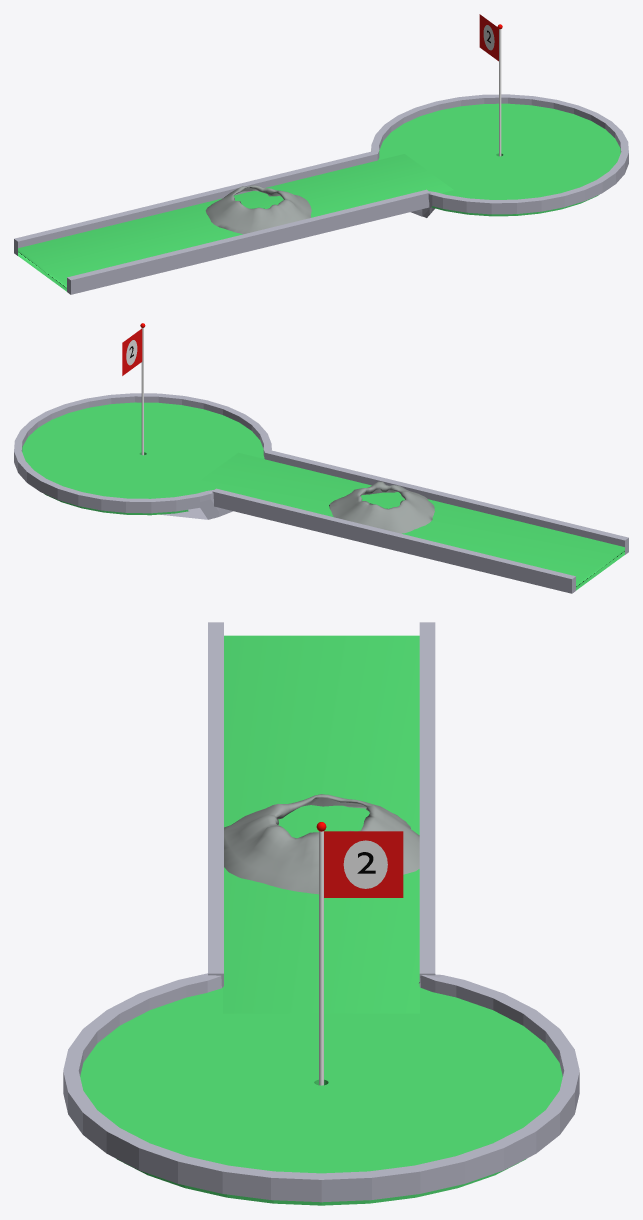
Rendered from prøvebane2.fbx.
The picture shows the model from 3 angles, top to bottom: view 1: azimuth 30°, elevation 25°; view 2: azimuth 150°, elevation 25°; view 3: azimuth 270°, elevation 25°; orthographic projection. The views are drawn at different scales.
Parts seen in each view (by area): view 1: Cylinder, bane, Cube, Cylinder.001, Cube.002, krater, Plane.002; view 2: Cylinder, bane, Cube.002, Cylinder.001, Cube, krater, Plane.002; view 3: Cylinder, bane, Cylinder.001, krater, Cube.002, Cube, Plane.002, Circle.002, Cylinder.003.
Part boxes in pixels (x1,y1,x2,y2): Cylinder: (378, 103, 620, 216); bane: (18, 154, 453, 291); Cube: (67, 189, 430, 294); Cylinder.001: (371, 94, 628, 217); Cube.002: (14, 151, 377, 255); krater: (205, 185, 311, 234); Plane.002: (479, 14, 498, 61); Cylinder: (22, 402, 264, 515); bane: (189, 452, 624, 590); Cube.002: (212, 488, 575, 593); Cylinder.001: (14, 393, 271, 519); Cube: (265, 450, 628, 554); krater: (329, 481, 434, 533); Plane.002: (122, 328, 142, 375); Cylinder: (80, 987, 562, 1205); bane: (223, 635, 419, 1013); Cylinder.001: (63, 973, 579, 1202); krater: (224, 794, 419, 894); Cube.002: (419, 622, 435, 986); Cube: (208, 622, 223, 987); Plane.002: (324, 831, 403, 897); Circle.002: (343, 840, 387, 888); Cylinder.003: (319, 831, 323, 1085).
Size of the model in its own units: 535 by 138 by 210.
